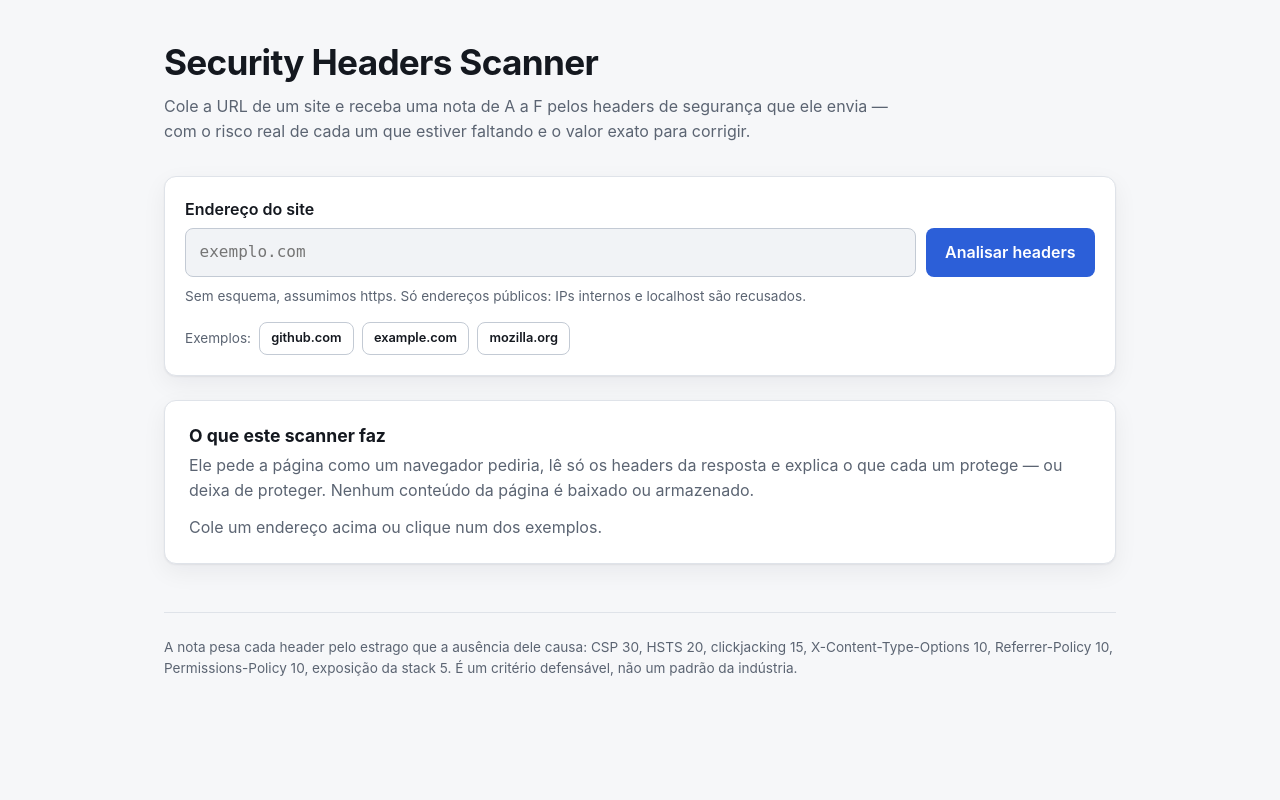
App › scans a site and renders the grade with a per-header breakdown
Type "example.com" into the field labelled "Endereço do site" at point(551, 253), box [185,228,916,277]
Then press Enter
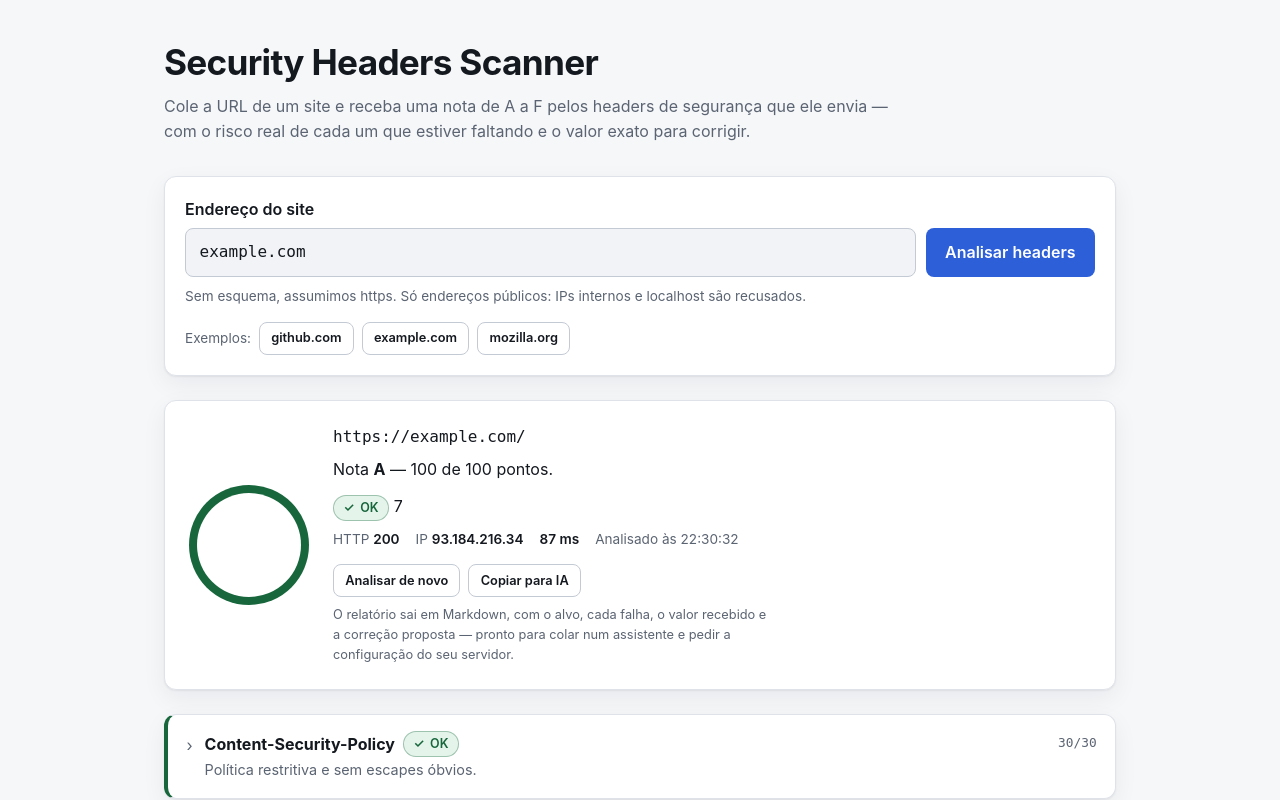
Check: the text "Content-Security-Policy" is shown, box [204,734,395,754]
Check: the text "https://example.com/" is shown, box [333,427,526,446]
